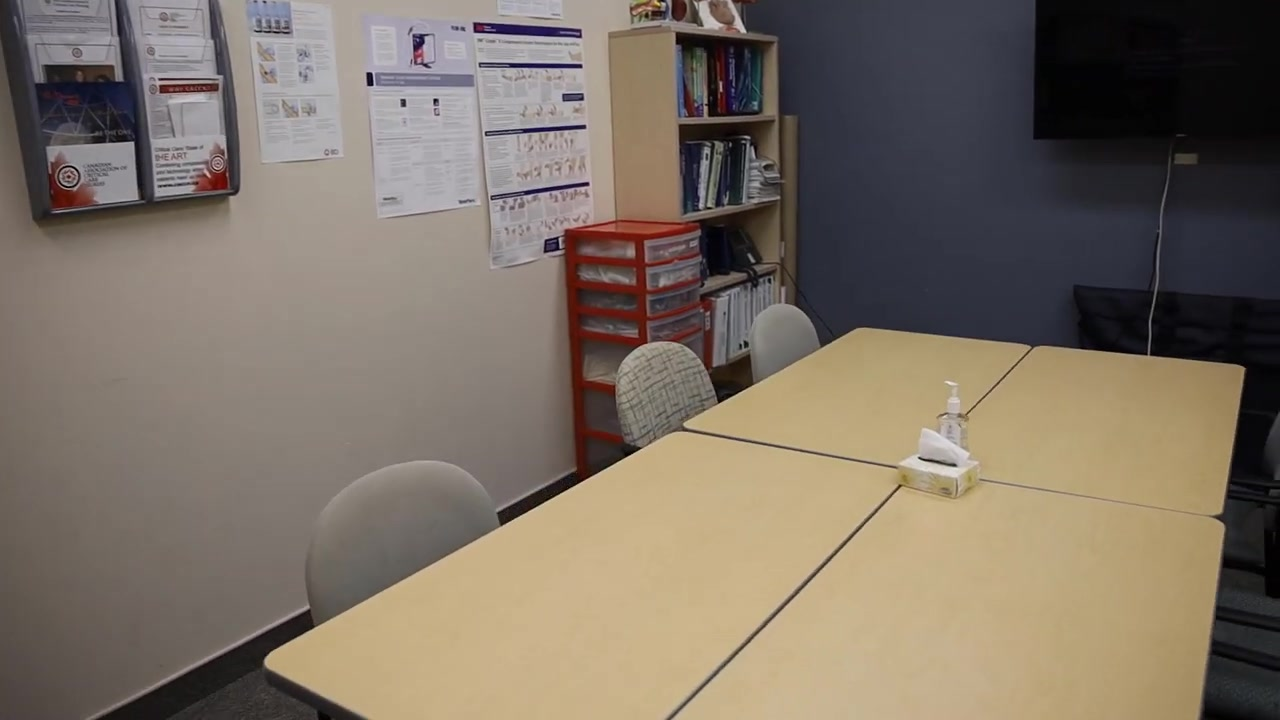TV: (1033, 1, 1280, 138)
cabinet: (608, 26, 787, 281)
chair: (305, 460, 501, 627), (615, 341, 718, 456), (1223, 410, 1280, 598), (1204, 585, 1280, 720), (749, 304, 821, 384)
dispenser: (935, 380, 970, 451)
drawer: (565, 219, 705, 481)
table: (263, 327, 1246, 720)
telephone: (712, 222, 763, 270)
